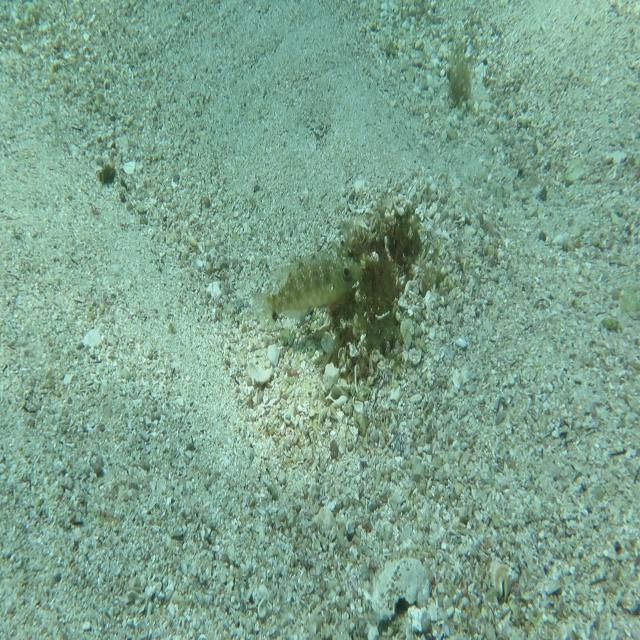MAN: (246, 248, 364, 336)
core_nest: (382, 223, 416, 259)
nest: (316, 192, 426, 377)
vegetation: (445, 41, 472, 108), (96, 159, 117, 188)
